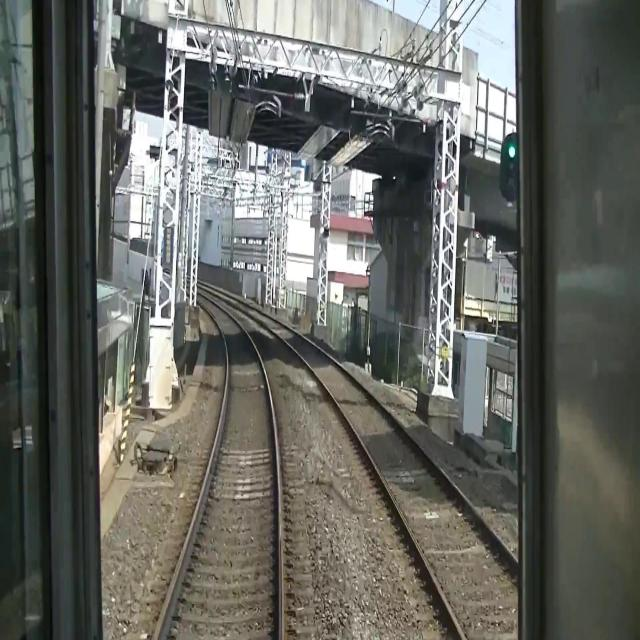rail-track: (172, 293, 278, 639)
